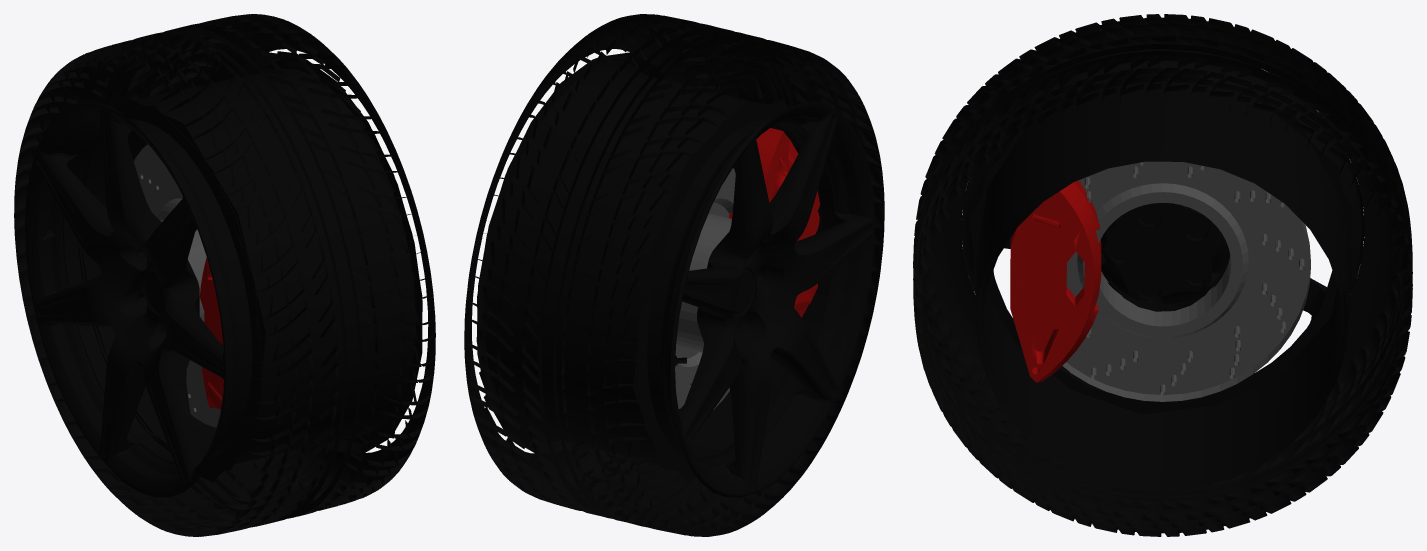
The model's file is wheel.gltf.
3 views of the same model, side by side, from view 1: azimuth 30°, elevation 25°; view 2: azimuth 150°, elevation 25°; view 3: azimuth 270°, elevation 25° (orthographic).
Visible parts, largest first — view 1: GT500.Wheel.Bk.R_glossblack_0, GT500.Wheel.Bk.R_tire_0, GT500.Wheel.Bk.R_lambert1_0, GT500.Wheel.Bk.R_plate_0, GT500.WheelBrake.Ft.L; view 2: GT500.Wheel.Bk.R_glossblack_0, GT500.Wheel.Bk.R_tire_0, GT500.Wheel.Bk.R_lambert1_0, GT500.Wheel.Bk.R_plate_0, GT500.WheelBrake.Ft.L; view 3: GT500.Wheel.Bk.R_tire_0, GT500.Wheel.Bk.R_glossblack_0, GT500.Wheel.Bk.R_lambert1_0, GT500.Wheel.Bk.R_plate_0, GT500.WheelBrake.Ft.L.
Part boxes in pixels (x1,y1,x2,y2): GT500.Wheel.Bk.R_glossblack_0: (25, 96, 265, 497); GT500.Wheel.Bk.R_tire_0: (14, 14, 435, 536); GT500.Wheel.Bk.R_lambert1_0: (42, 52, 422, 497); GT500.Wheel.Bk.R_plate_0: (134, 144, 220, 427); GT500.WheelBrake.Ft.L: (199, 257, 223, 409); GT500.Wheel.Bk.R_glossblack_0: (633, 99, 875, 497); GT500.Wheel.Bk.R_tire_0: (464, 14, 884, 536); GT500.Wheel.Bk.R_lambert1_0: (476, 52, 859, 478); GT500.Wheel.Bk.R_plate_0: (675, 168, 735, 409); GT500.WheelBrake.Ft.L: (729, 128, 819, 317); GT500.Wheel.Bk.R_tire_0: (913, 14, 1412, 536); GT500.Wheel.Bk.R_glossblack_0: (962, 49, 1364, 487); GT500.Wheel.Bk.R_lambert1_0: (961, 78, 1351, 490); GT500.Wheel.Bk.R_plate_0: (1062, 161, 1310, 401); GT500.WheelBrake.Ft.L: (1010, 180, 1101, 382).
Size of the model in its own units: 0.3211 by 0.6975 by 0.6973.
